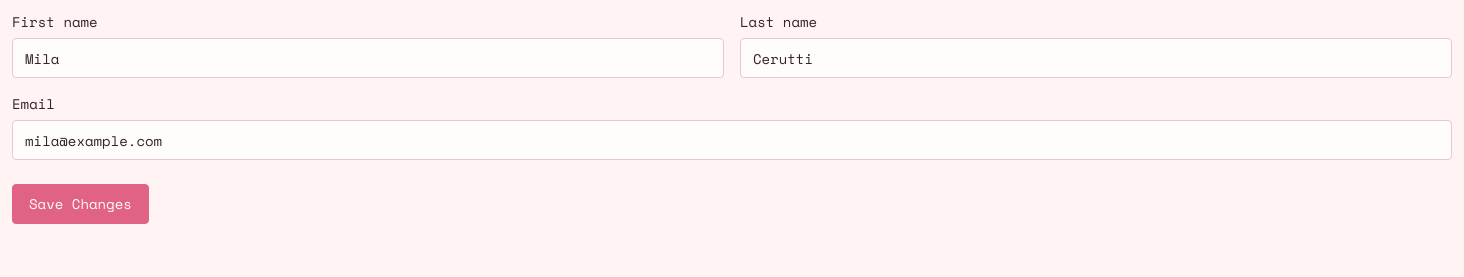
ProfileForm › shows a server error when the email is already taken
The image size is (1464, 277).
Click the button "Save Changes". click: click(80, 204)
box: [12,184,149,224]
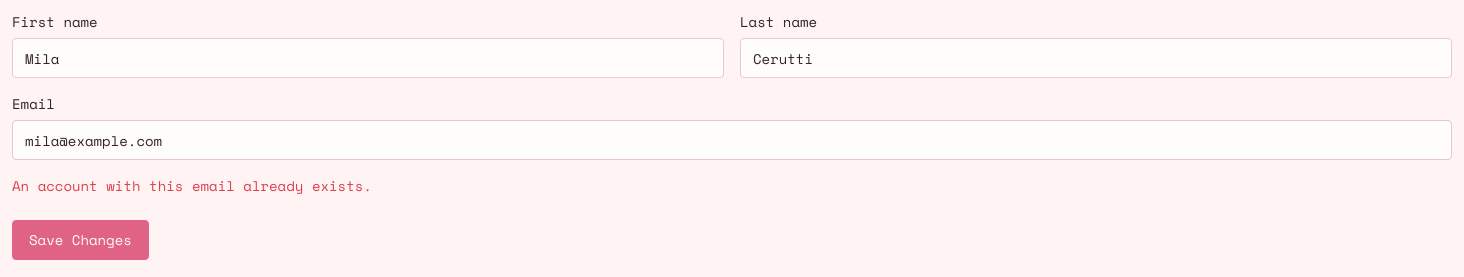
Expected: the message reads "An account with this email already exists.", [12,175,372,196]
